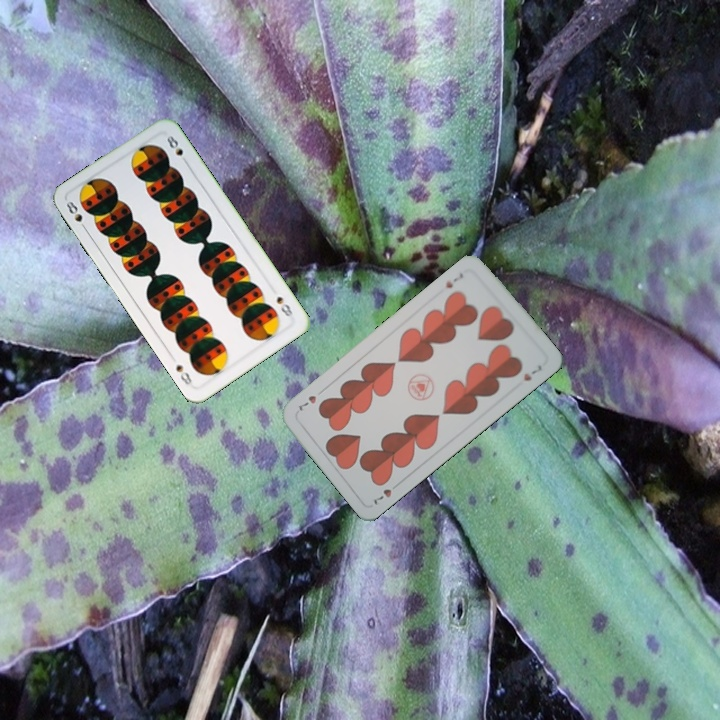H7: (369, 478, 402, 508), (441, 269, 466, 291)
S8: (62, 197, 90, 234), (272, 292, 295, 319)
